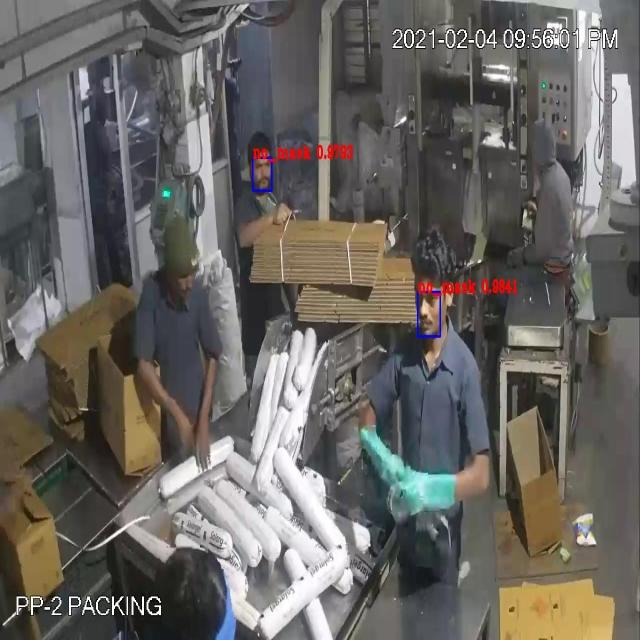gloves: (392, 450, 474, 532), (360, 412, 422, 518)
no-gloves: (120, 344, 198, 463), (192, 342, 230, 475), (231, 200, 303, 251)
